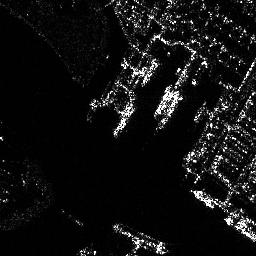ship: (113, 221, 168, 254), (156, 93, 183, 130), (224, 215, 256, 242), (112, 104, 135, 136), (154, 84, 173, 117), (141, 56, 159, 87), (191, 188, 215, 208), (194, 100, 207, 122)
